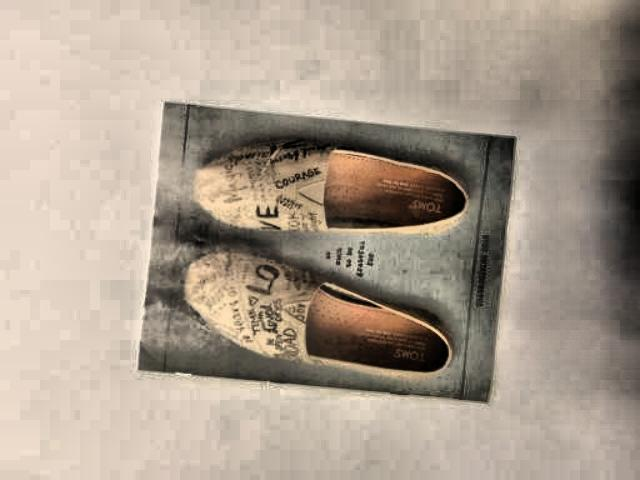Paper: (132, 101, 514, 414), (482, 257, 513, 414)
